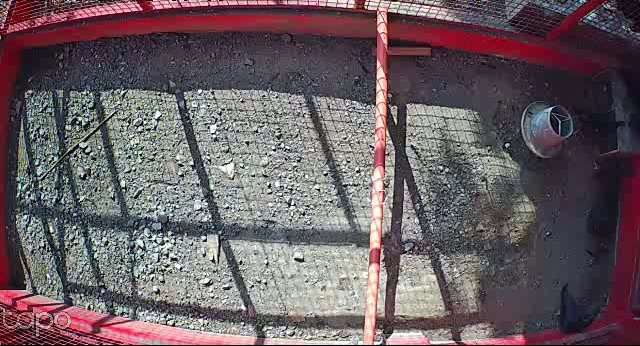Chicken: (549, 282, 594, 335)
Feeder: (518, 99, 574, 159)
